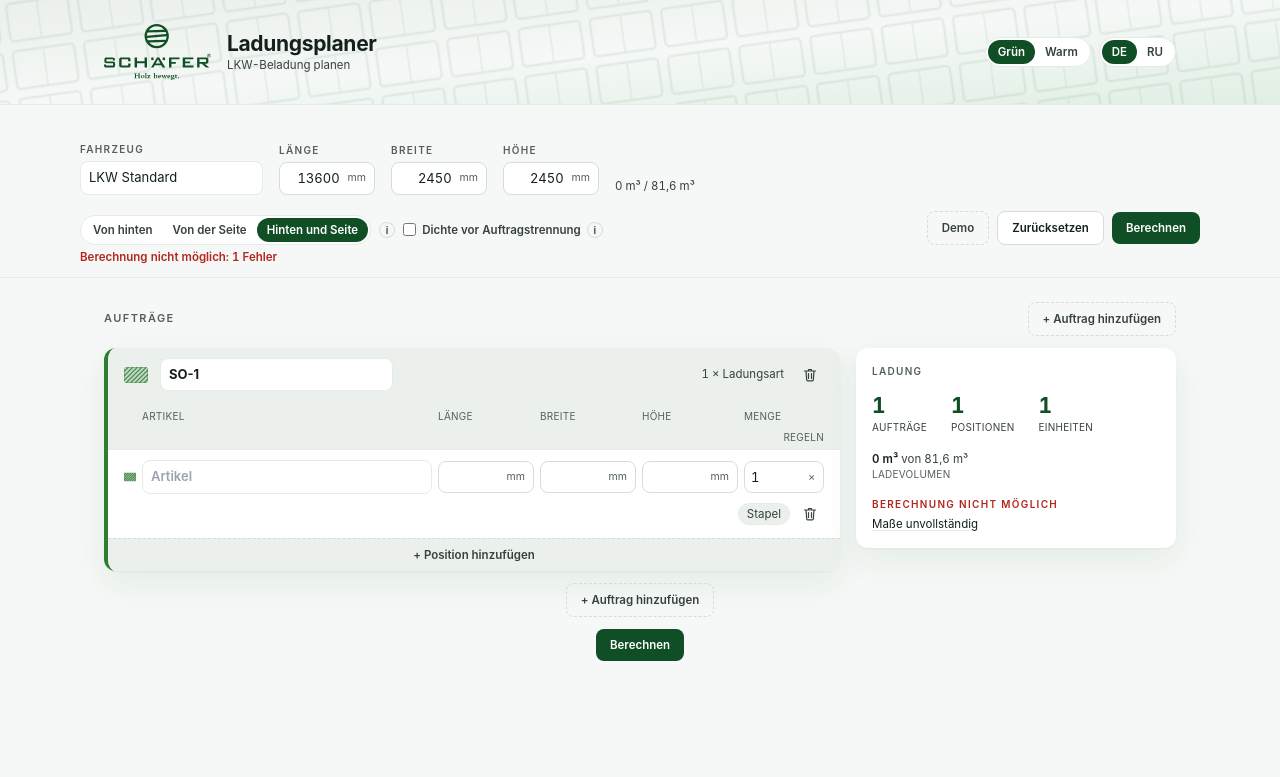
Test: SetupScreen › shows a hint on the two-sided orientation about rear/side loading (4bj.13)
This screenshot has width=1280, height=777.
Click the button with test id "rule-chip": (764, 514) [738,503,790,525]
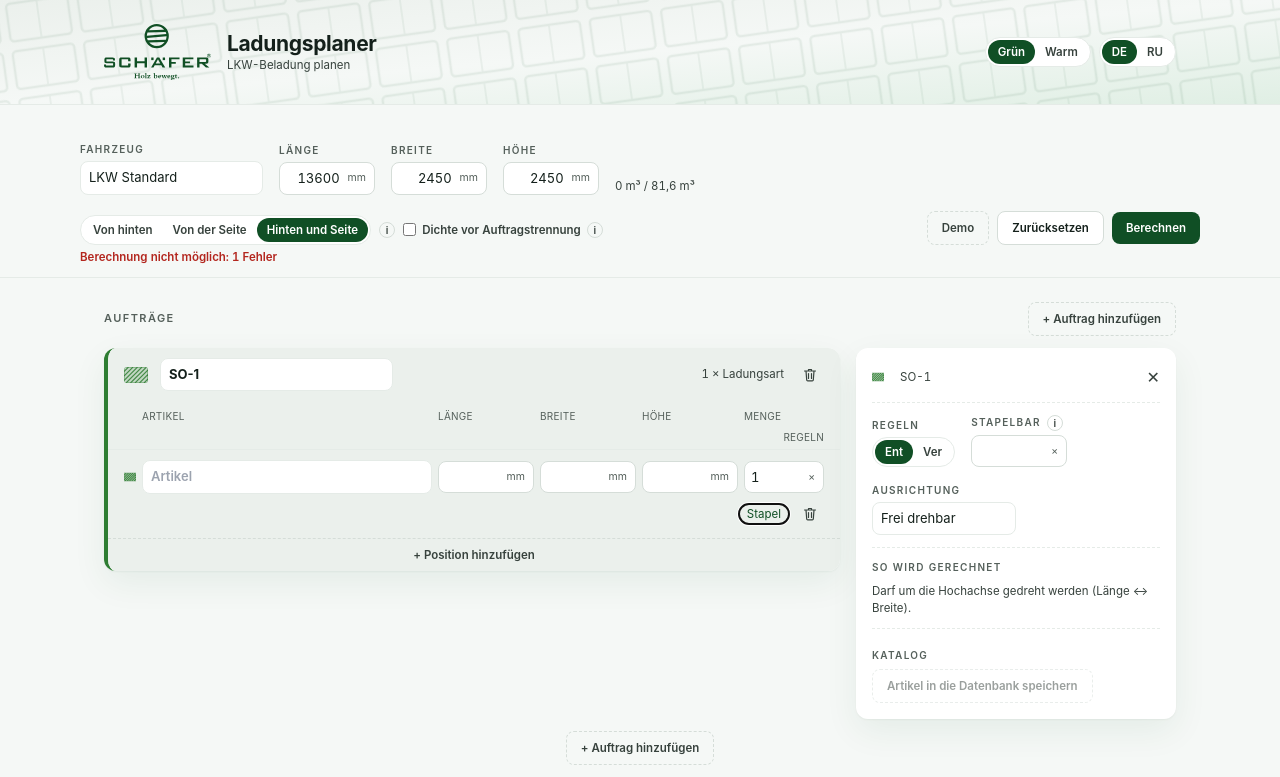
Check: the button "Nur 2 Seiten" is not shown
Select "Nur 2 Seiten" in the dropdown labelled "Ausrichtung": (944, 519) [872,502,1016,536]
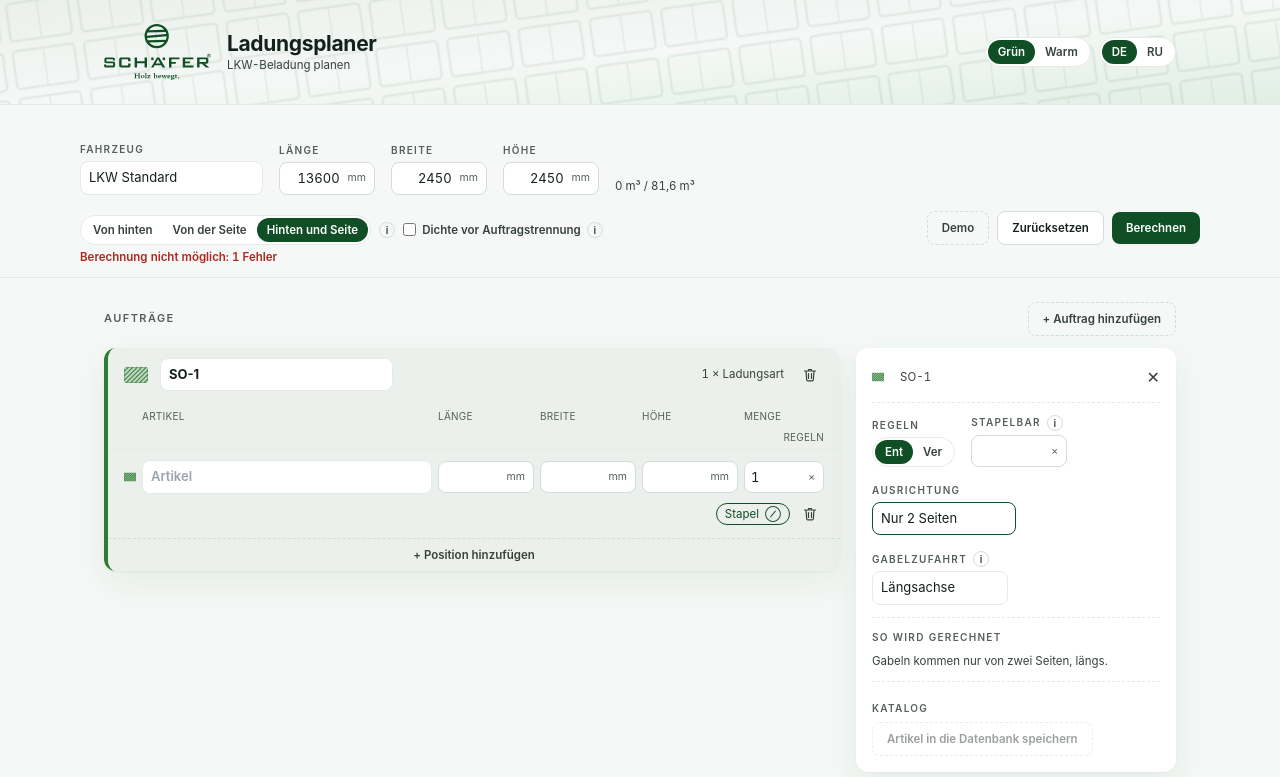
Click the button named "Nur 2 Seiten": (981, 560) [973,552,989,568]
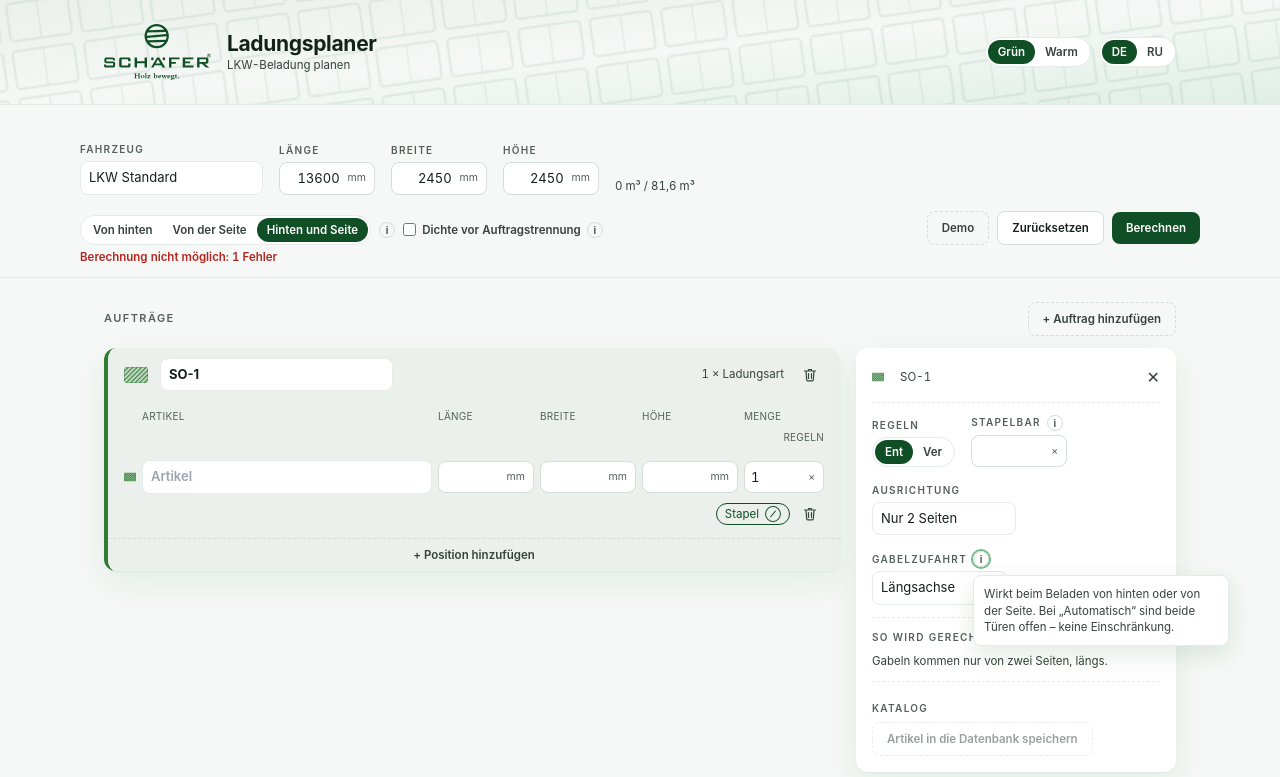
Check: the tooltip shows "hinten", box [984,588,1200,634]
